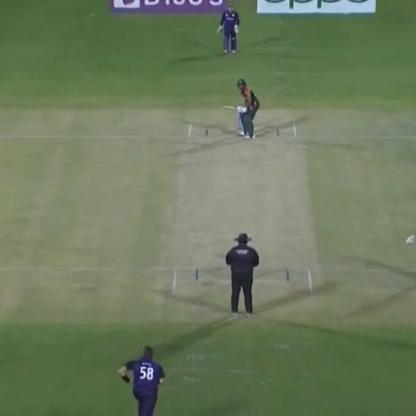bat: (216, 96, 242, 117)
pitch: (168, 122, 316, 300)
